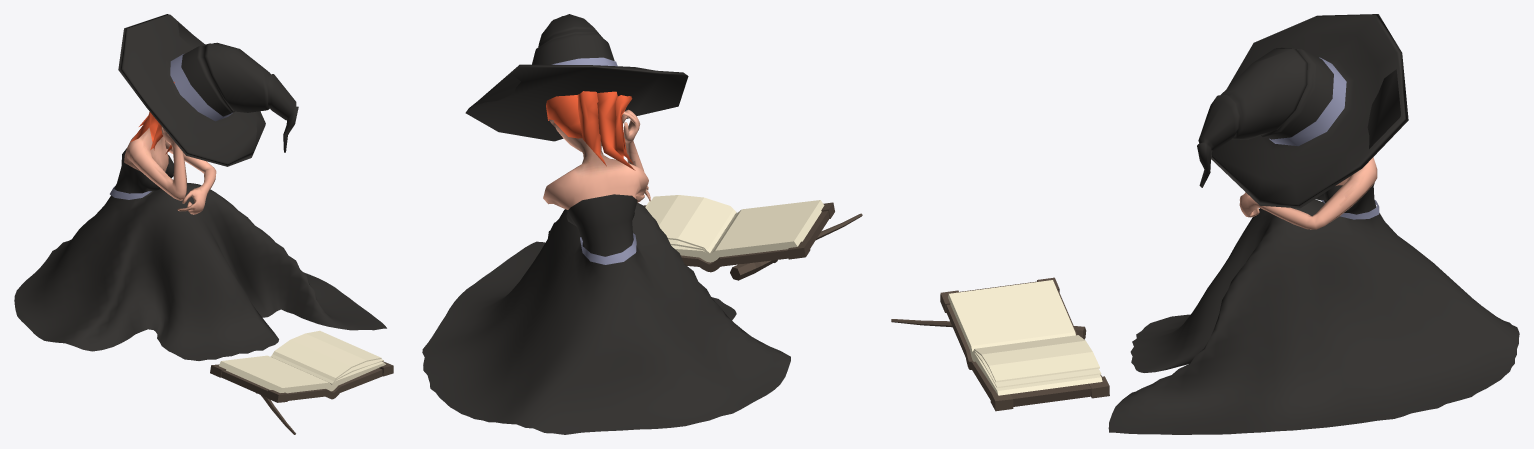
Rendered from witch-transformed.glb.
The picture shows the model from 3 angles, left to right: view 1: azimuth 30°, elevation 25°; view 2: azimuth 150°, elevation 25°; view 3: azimuth 270°, elevation 25°; orthographic projection. The views are drawn at different scales.
Visible parts, largest first — view 1: Object_4, Object_14; view 2: Object_4, Object_14; view 3: Object_4, Object_14.
Boxes of the visible parts, bbox=[...] form: Object_4: bbox=[14, 14, 393, 434]; Object_14: bbox=[124, 126, 216, 214]; Object_4: bbox=[422, 14, 862, 434]; Object_14: bbox=[543, 109, 650, 209]; Object_4: bbox=[891, 14, 1519, 434]; Object_14: bbox=[1239, 157, 1377, 229].
Bounding box in the file's own units: 3.86 × 3.52 × 6.11.
Materials: 2 (2 with a texture image).
